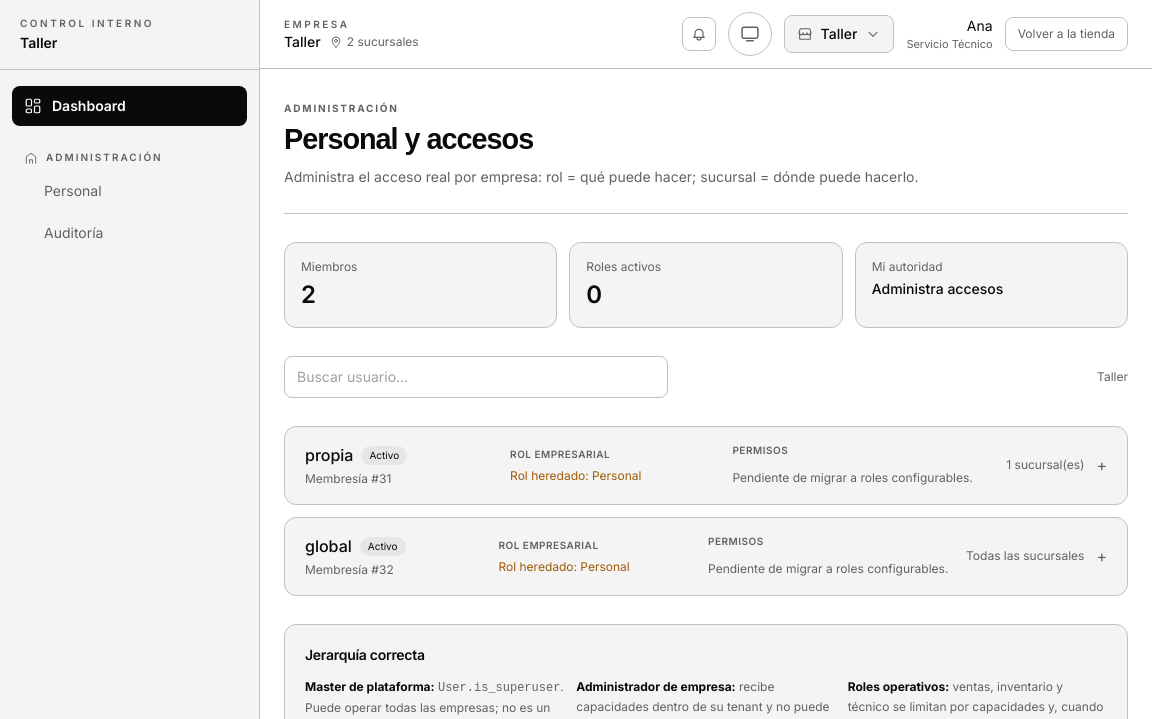
Usuarios · alcance por sucursal › ALL keeps "Todas" and every branch
Click the text "propia".
click(329, 455)  # box 305,443 -> 354,467
(page scrolled)
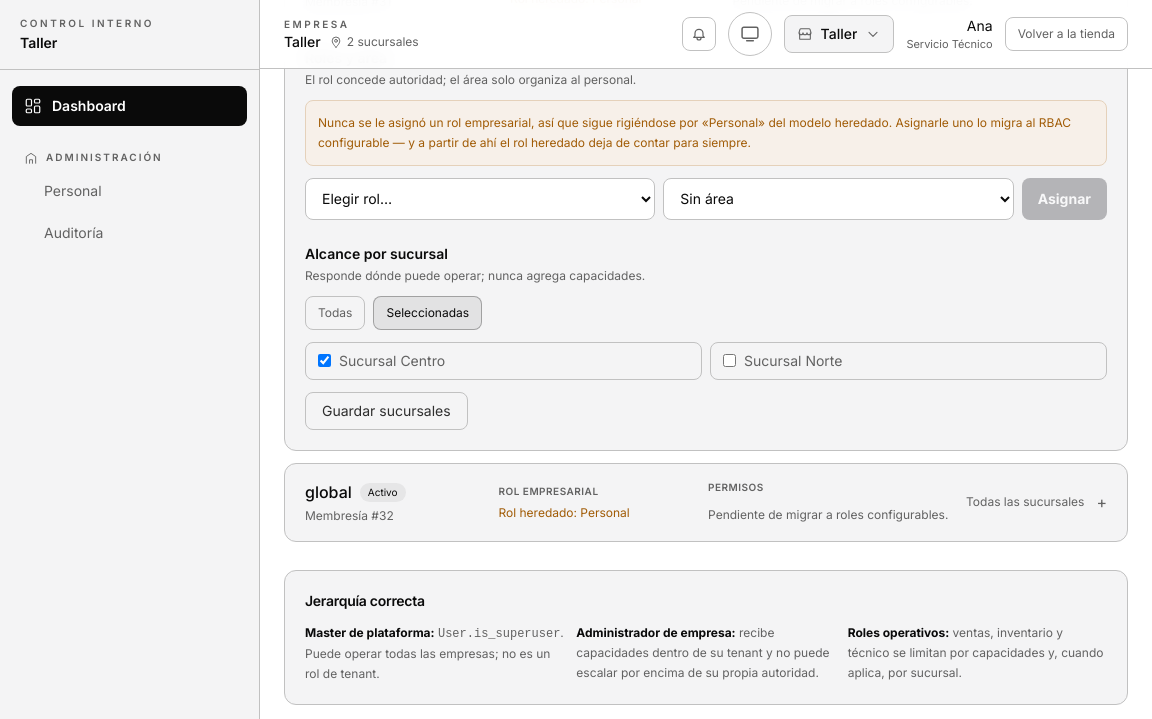
expect the button "Todas" is shown: met, box 305,296 -> 365,330
expect the checkbox labelled "Sucursal Norte" is shown: met, box 723,354 -> 736,367
